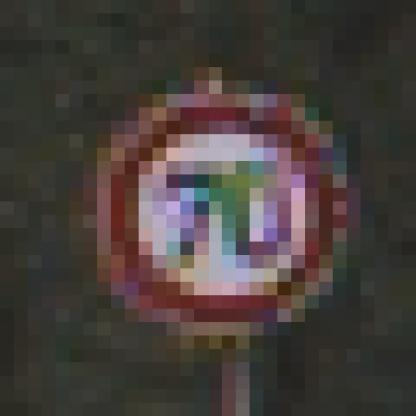Speed Limit 70: (107, 102, 336, 326)
